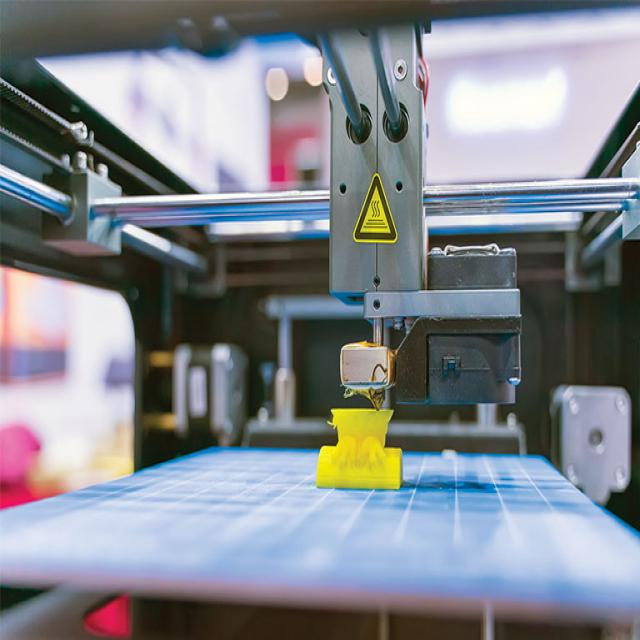Without deffect: (306, 389, 411, 501)
